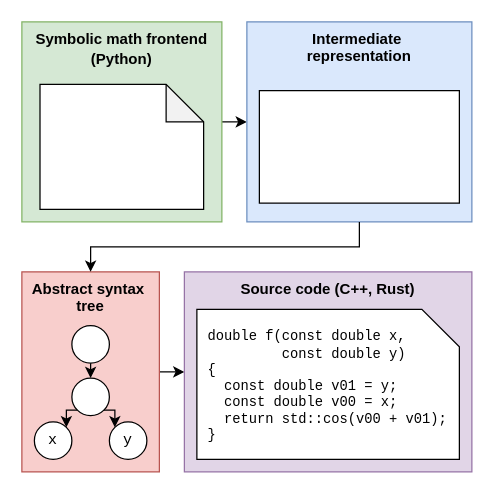
Image size: 494x494. Some labels were removed from this diagram. The centre of each missing label's shape, as x and y in pixels:
"Add" goes at [90,396].
"cos" goes at [90,343].
"def f(x, y): z = x + y return cos(z)" goes at [121,146].
"v00 <- x v01 <- y v02 <- add v00, v01 v03 <- cos v02" goes at [358,146].
